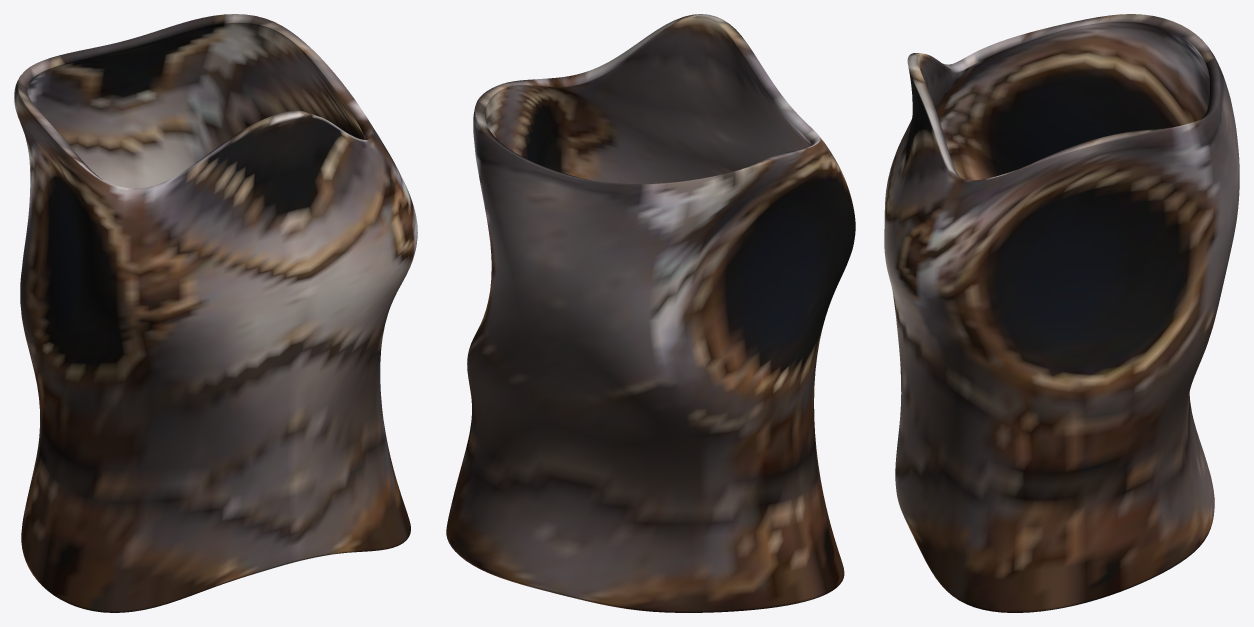
File: stahlplatte.glb
The picture shows the model from 3 angles, left to right: view 1: azimuth 30°, elevation 25°; view 2: azimuth 150°, elevation 25°; view 3: azimuth 270°, elevation 25°; orthographic projection. The views are drawn at different scales.
Parts seen in each view (by area): view 1: teil; view 2: teil; view 3: teil.
Boxes of the visible parts, x1=… form: teil: x1=14, y1=14, x2=417, y2=612; teil: x1=446, y1=14, x2=855, y2=612; teil: x1=884, y1=14, x2=1239, y2=612.
Size of the model in its own units: 0.4631 by 0.6057 by 0.4102.
